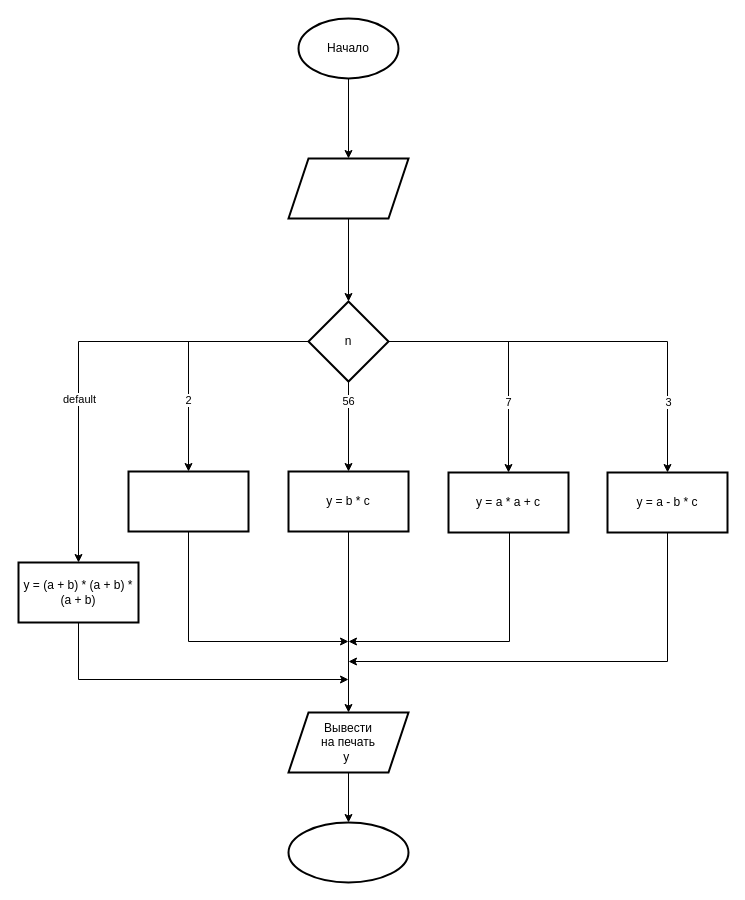
Some shapes in this 745 by 900 pixel diagram are drawn without their labels. Here are the shapes that lost their labels. From the top down, the centre of each, then its label:
the point at 348,188: Введите a, b, c, n
the point at 188,501: y = b * c - a * a
the point at 348,852: Конец
